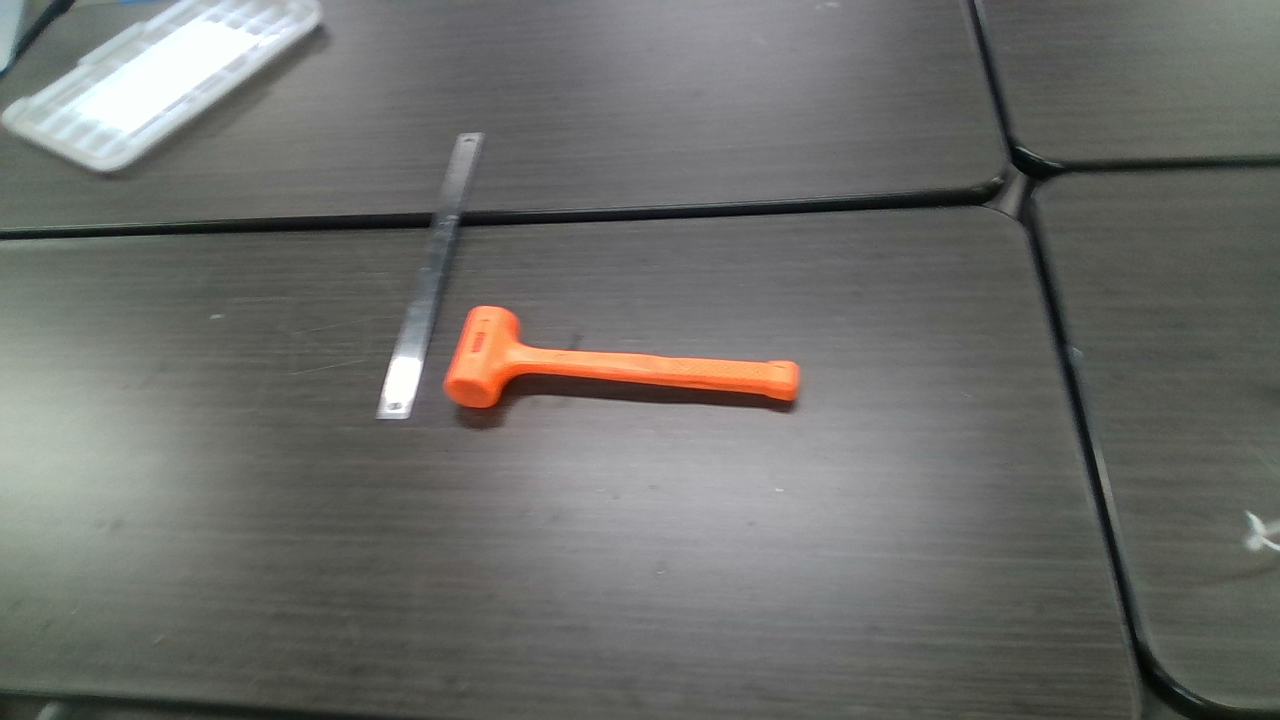Orange Hammer: (446, 308, 802, 410)
